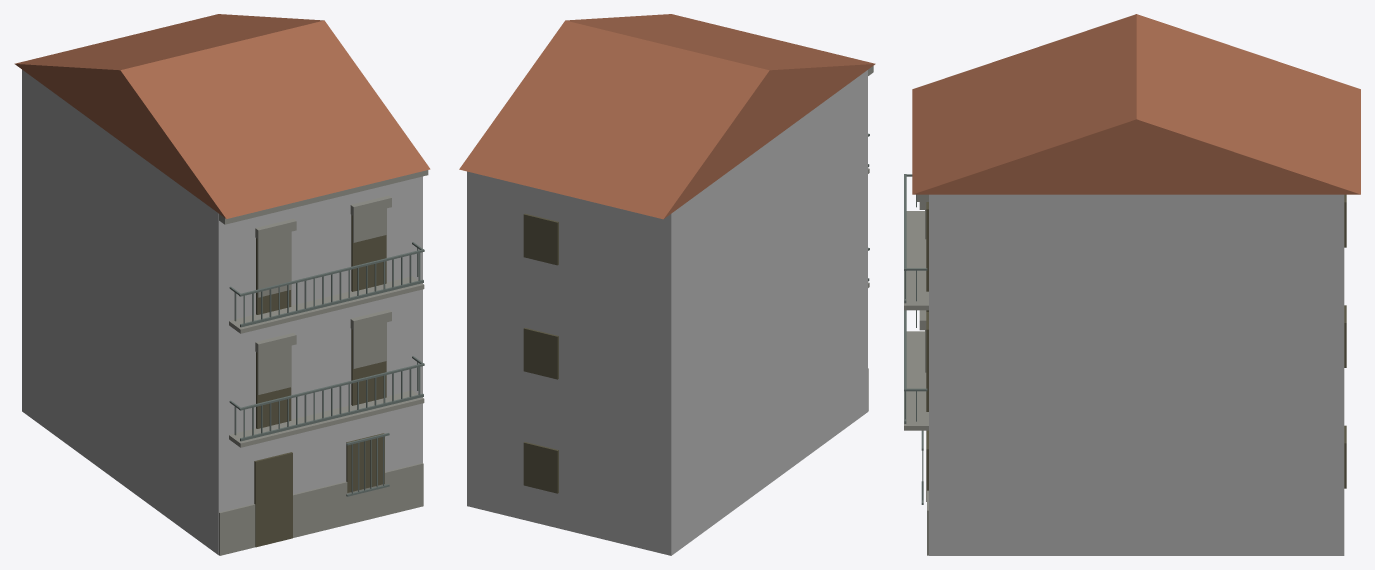
The model's file is SM_TresAlturas_v2_Gris_LOD0.fbx.
The picture shows the model from 3 angles, left to right: view 1: azimuth 30°, elevation 25°; view 2: azimuth 150°, elevation 25°; view 3: azimuth 270°, elevation 25°; orthographic projection. The views are drawn at different scales.
Visible parts, largest first — view 1: SM_pueblo_valenciano_v12_LOD0; view 2: SM_pueblo_valenciano_v12_LOD0; view 3: SM_pueblo_valenciano_v12_LOD0.
Part boxes in pixels (x1,y1,x2,y2): SM_pueblo_valenciano_v12_LOD0: (14, 14, 430, 555); SM_pueblo_valenciano_v12_LOD0: (459, 14, 875, 555); SM_pueblo_valenciano_v12_LOD0: (904, 14, 1360, 555).
Size of the model in its own units: 6 by 11.6 by 11.
